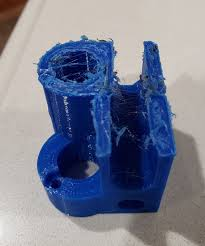fail: (34, 30, 122, 155), (139, 38, 178, 158), (111, 68, 155, 151), (50, 49, 100, 82)
